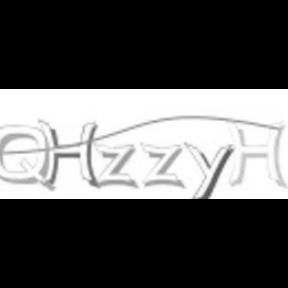H: (34, 116, 97, 190), (226, 118, 288, 192)
Q: (0, 120, 54, 189)
y: (180, 138, 234, 200)
z: (94, 142, 138, 190), (141, 141, 185, 189)
